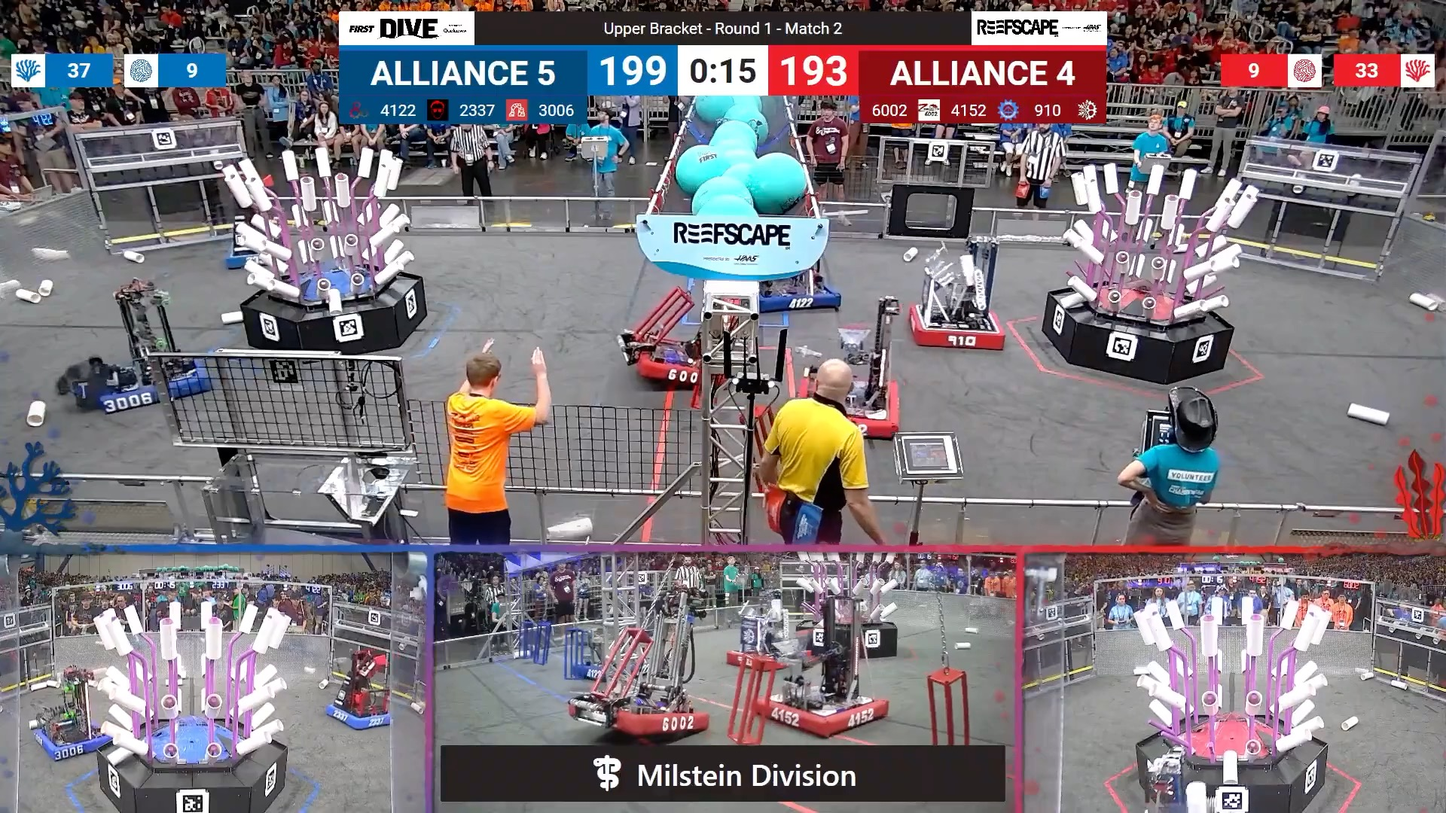bumpers: (61, 353, 218, 416), (901, 300, 1017, 360), (565, 693, 711, 739), (755, 694, 889, 735), (822, 377, 905, 438), (28, 717, 118, 764), (624, 342, 712, 389), (751, 277, 843, 314), (316, 699, 401, 735), (217, 244, 267, 274)
